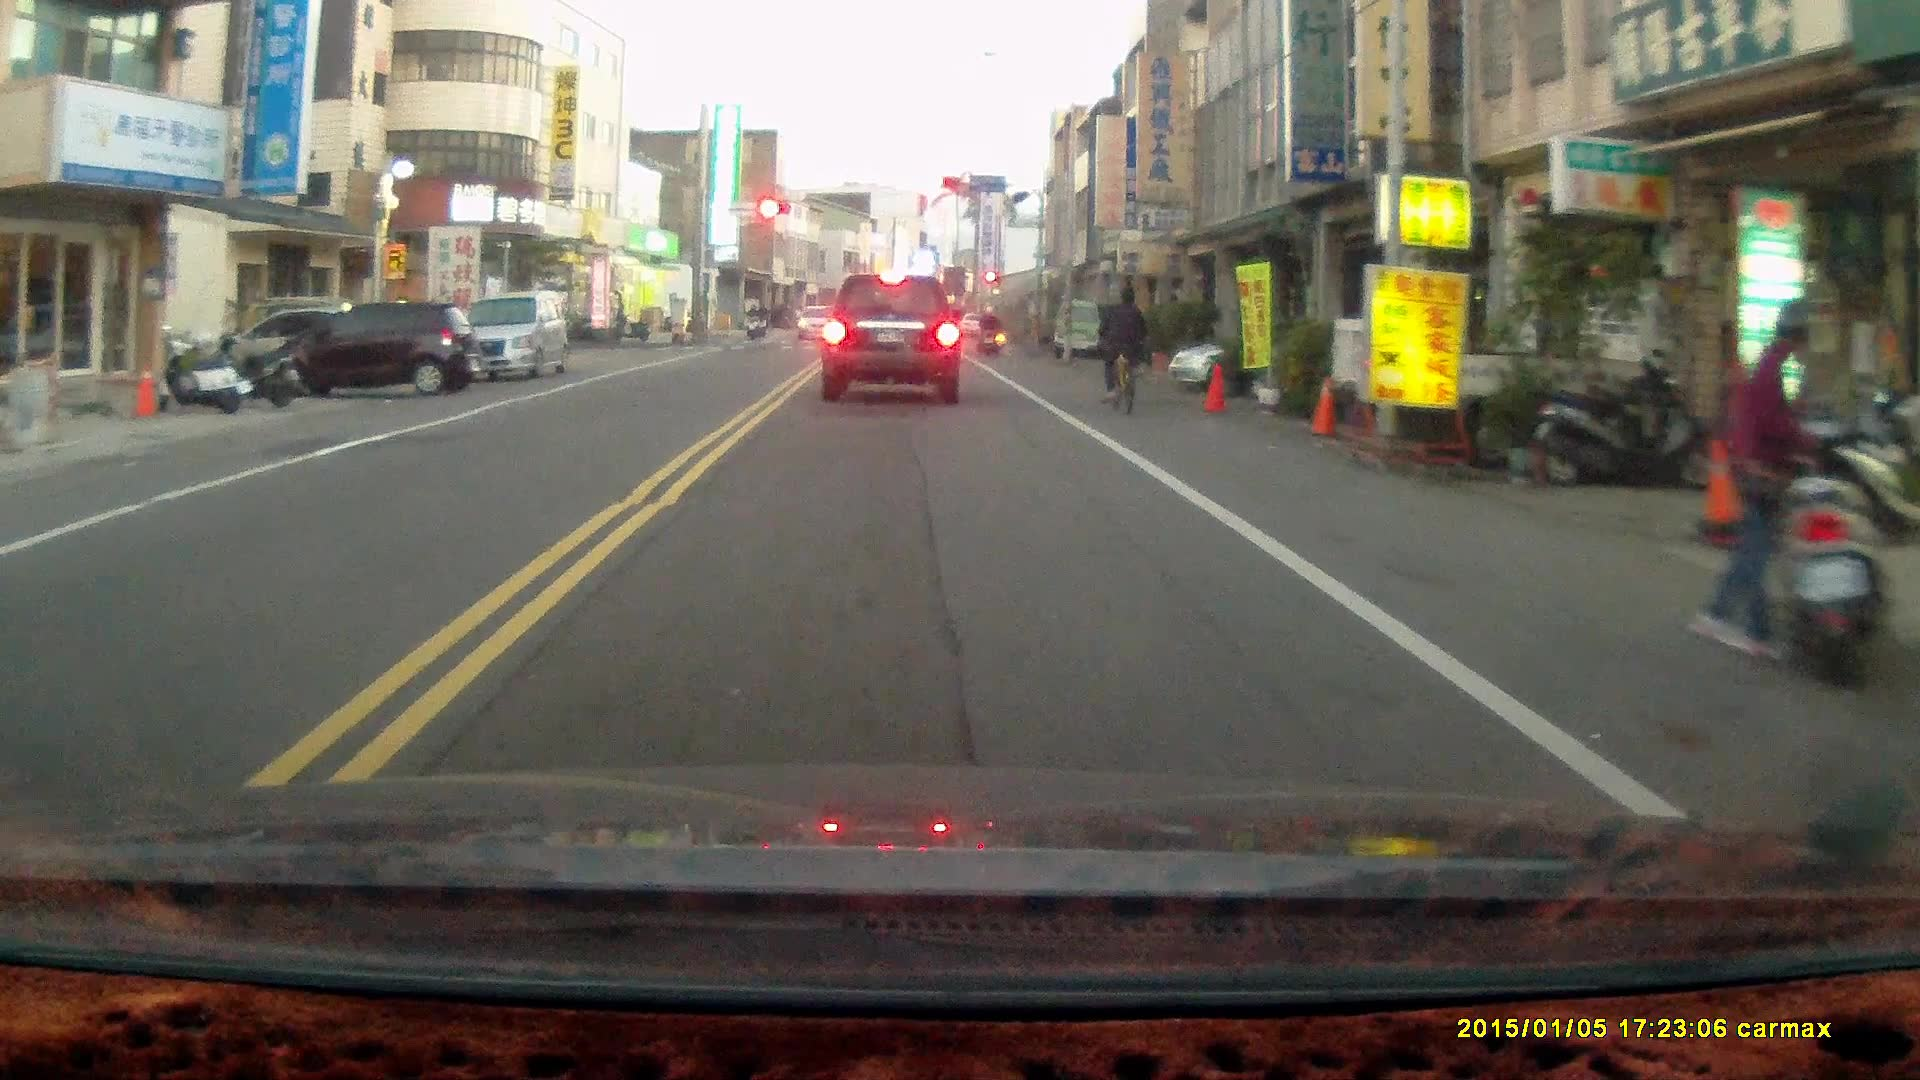pedestrian: (1690, 298, 1818, 668)
rider: (1096, 279, 1149, 413), (974, 300, 998, 354), (742, 301, 764, 342)
vehicle: (265, 300, 478, 403), (819, 271, 965, 407), (1165, 321, 1403, 394), (442, 285, 572, 384)
